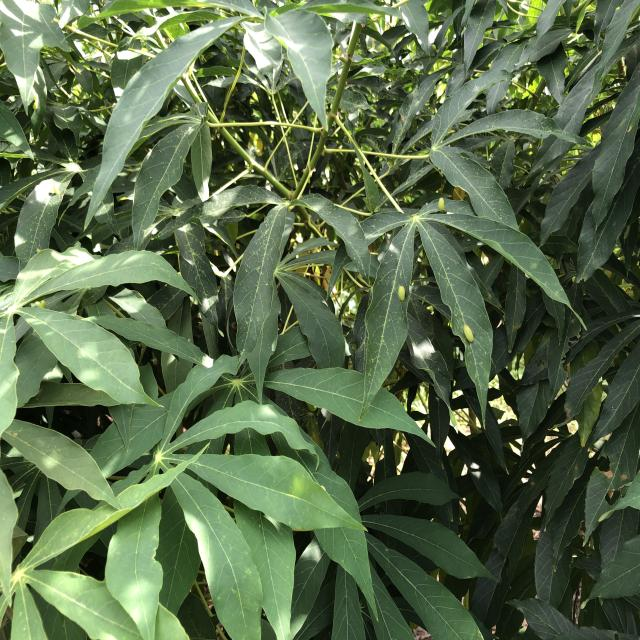Mosca: (425, 192, 451, 217), (457, 316, 476, 349), (391, 278, 408, 306), (52, 176, 67, 202)
